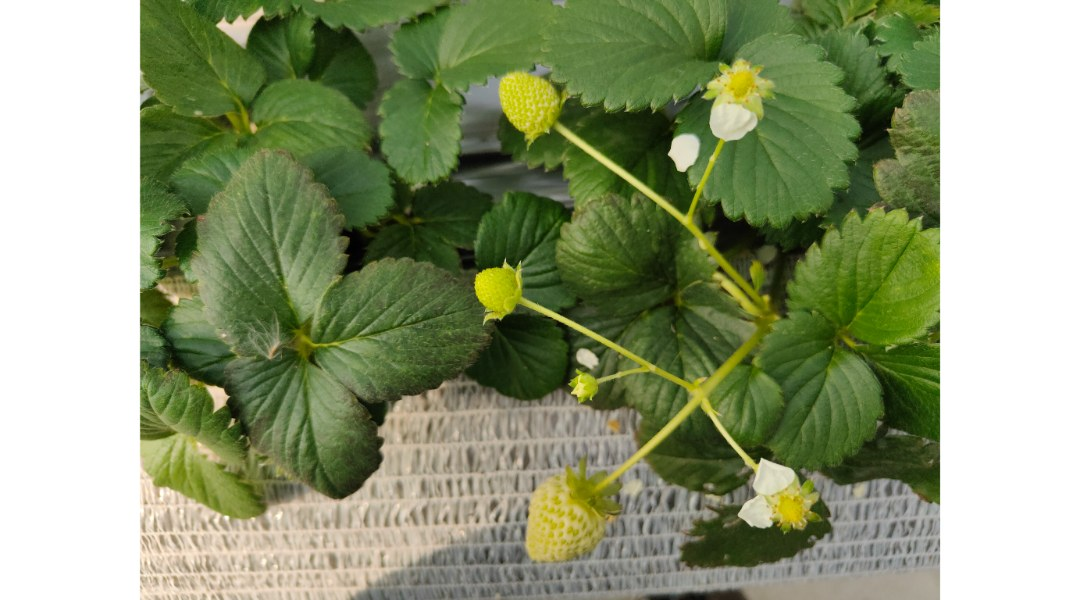berry: (515, 461, 627, 572), (492, 63, 577, 149), (698, 53, 775, 120), (468, 249, 525, 326), (564, 370, 599, 401)
flower: (739, 444, 826, 533)
strain: (558, 125, 678, 216), (517, 297, 633, 362), (596, 406, 684, 488), (696, 225, 759, 302), (712, 325, 777, 393), (705, 406, 762, 476), (693, 134, 727, 215)
